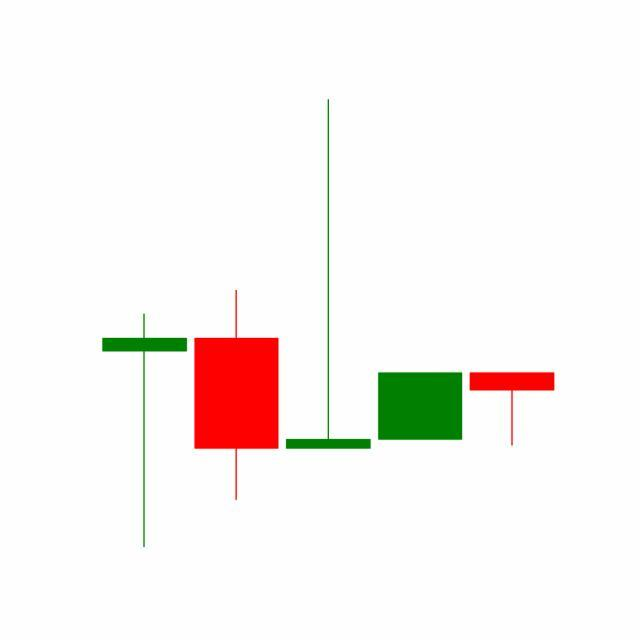Hammer: (466, 372, 559, 448)
